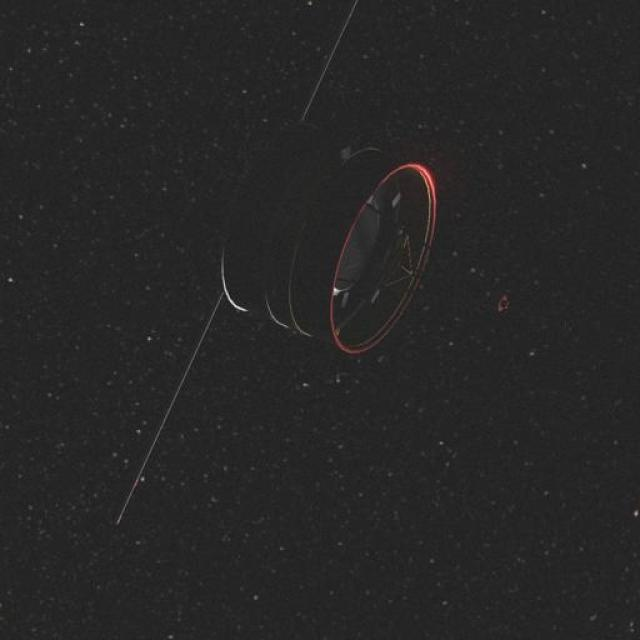double_start: (187, 114, 460, 373)
